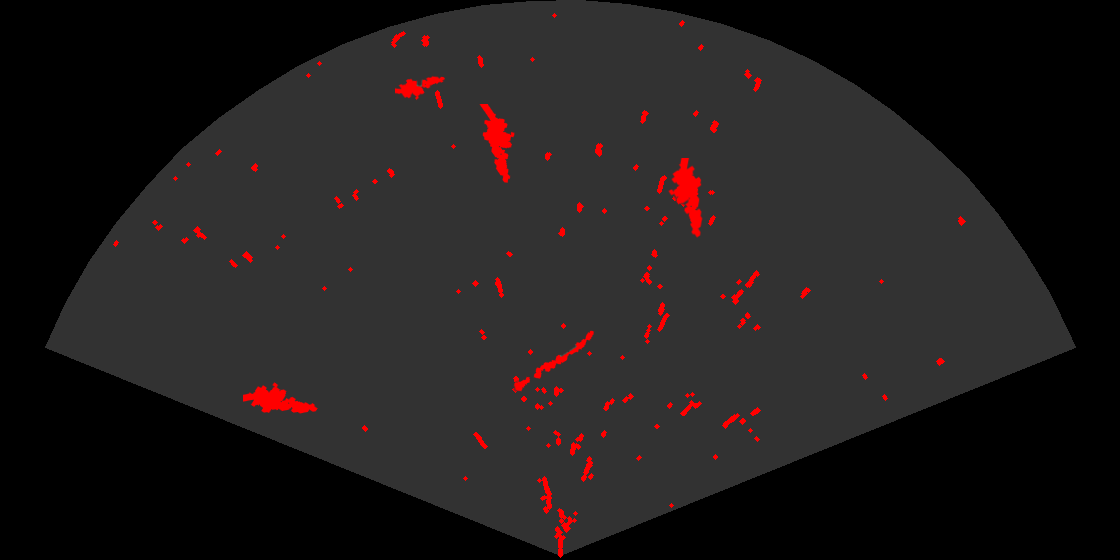chain: (512, 329, 595, 393)
frogman: (478, 104, 516, 184), (667, 158, 704, 239), (243, 381, 319, 415), (395, 74, 445, 102)
